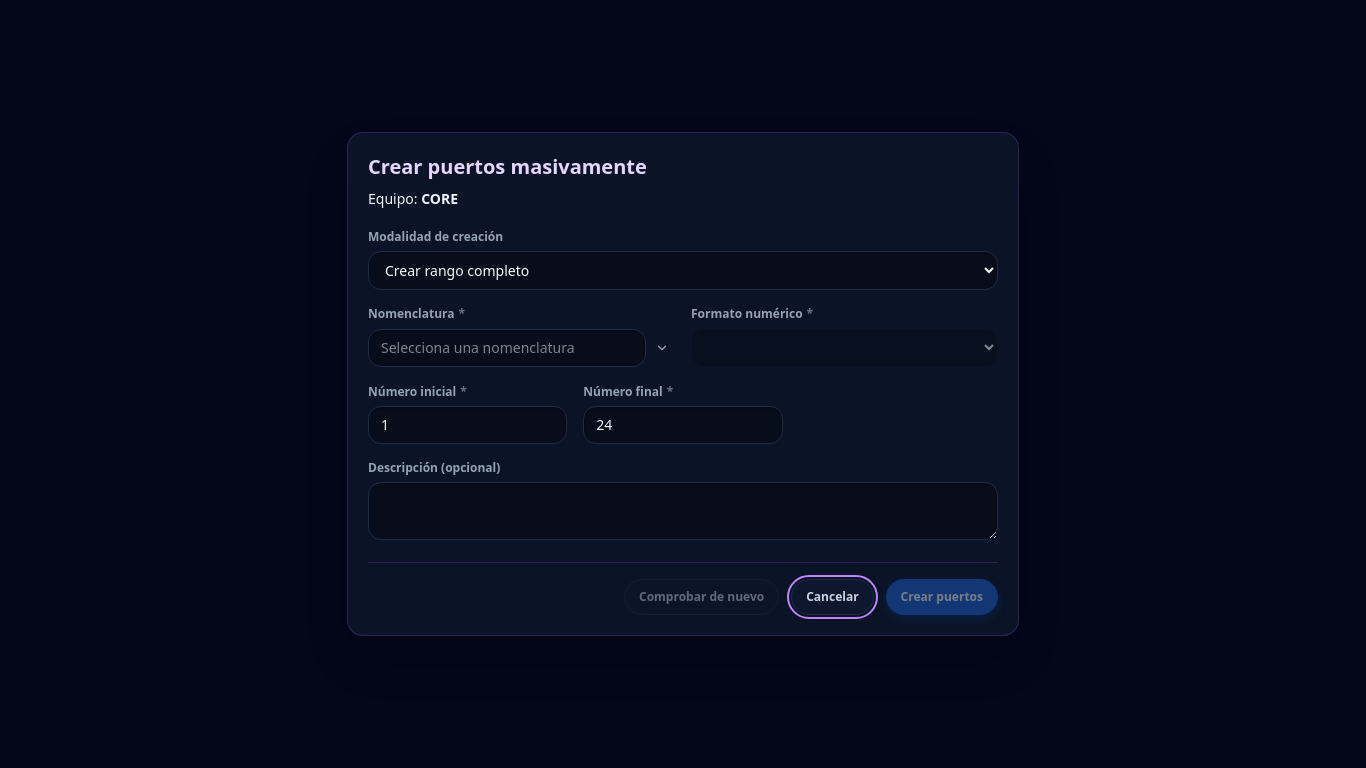
Test case: formulario central de puertos › presenta los 24 nombres de la vista previa en secuencia numérica sin ordenarlos alfabéticamente
The width and height of the screenshot is (1366, 768).
Click the dropdown labelled "Nomenclatura".
click(507, 348)  # box [368,329,646,367]
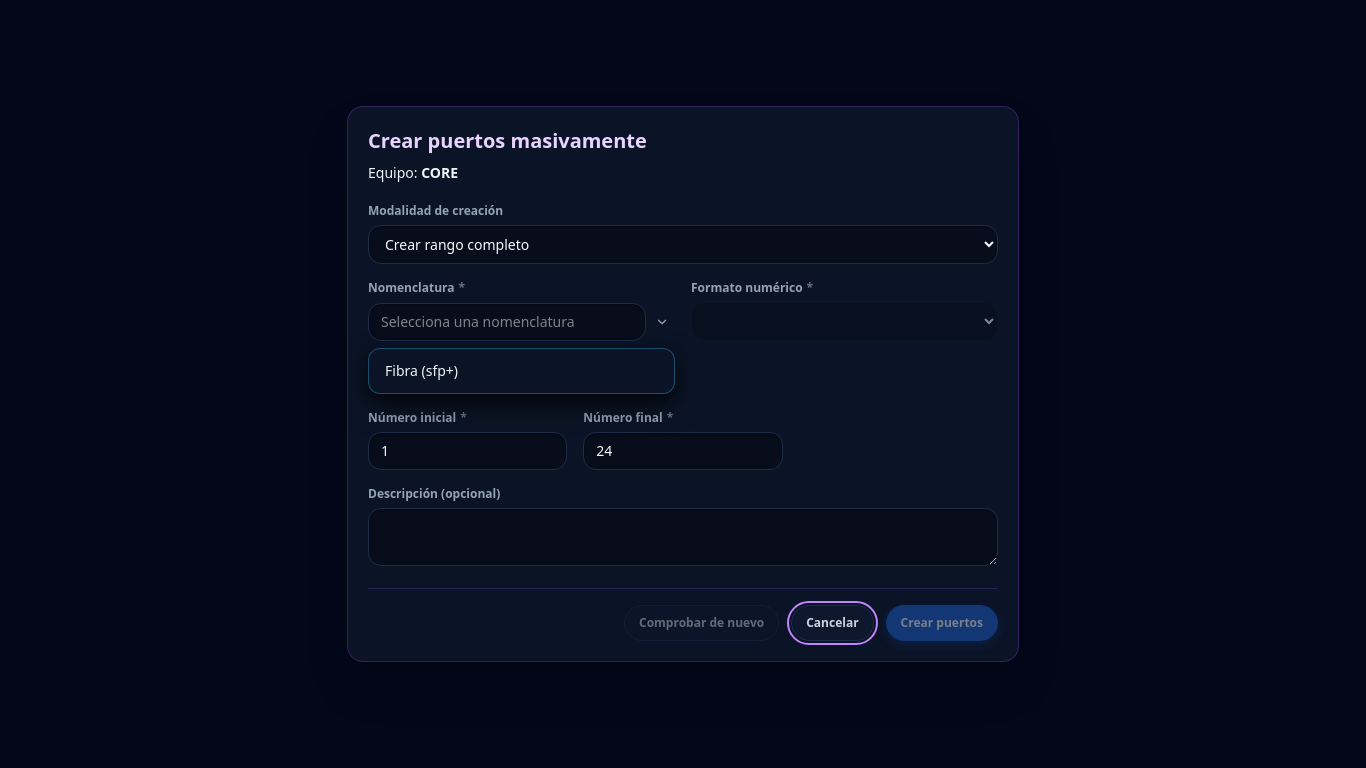
Click the option "Fibra (sfp+)".
click(422, 370)  # box [385,361,458,380]
(page scrolled)
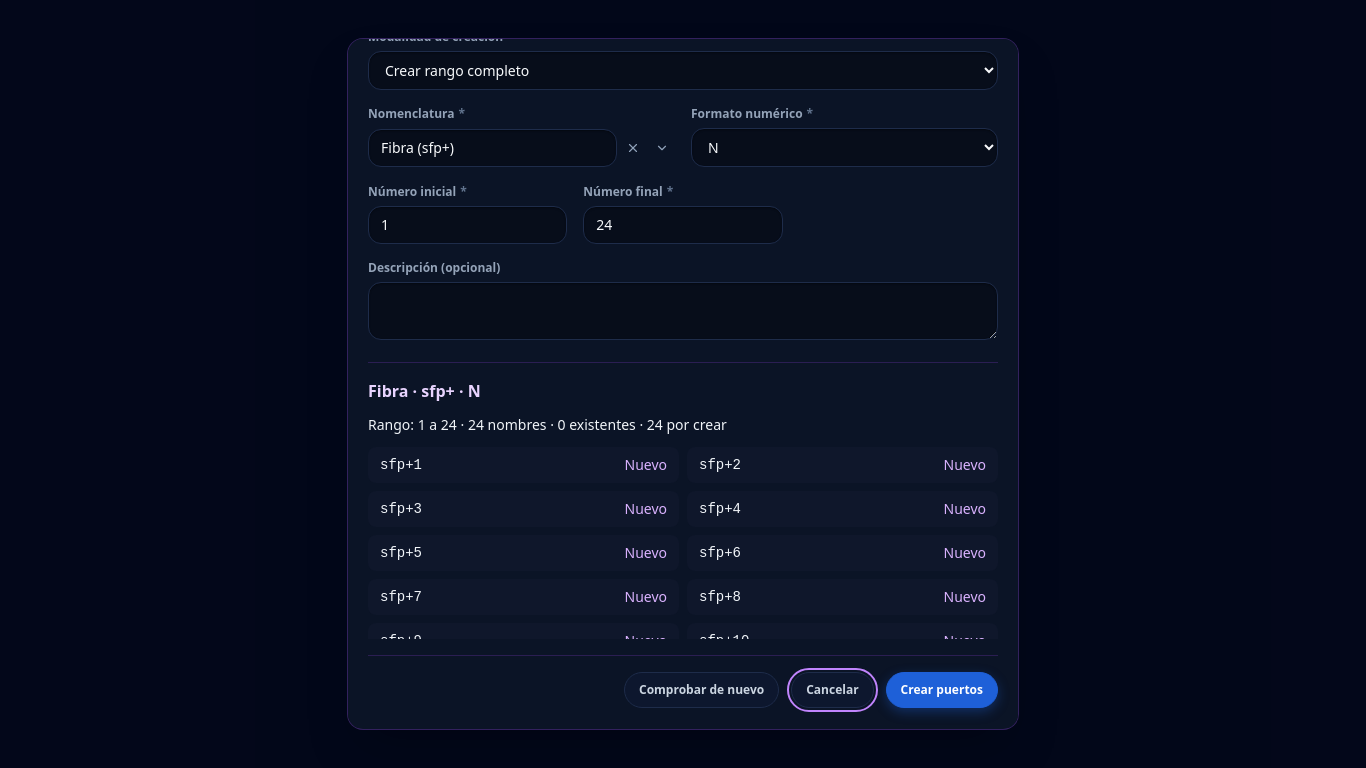
Check: the button "Crear puertos" is enabled, box [886,672,998,708]
